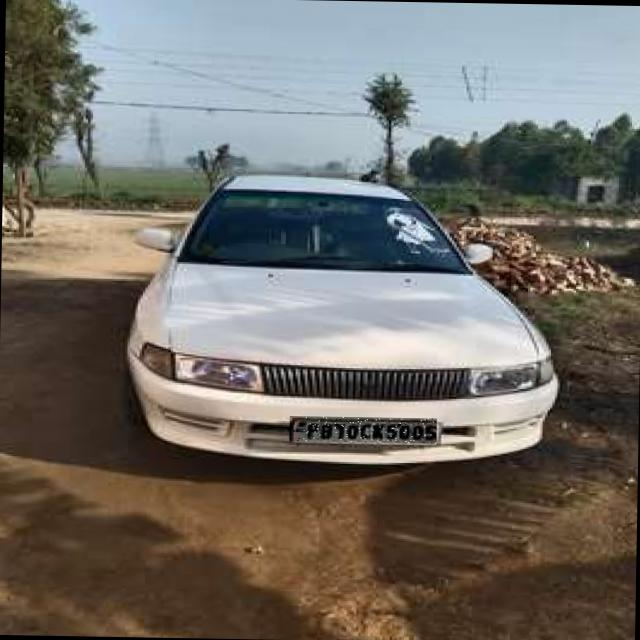Plate: (290, 417, 437, 445)
